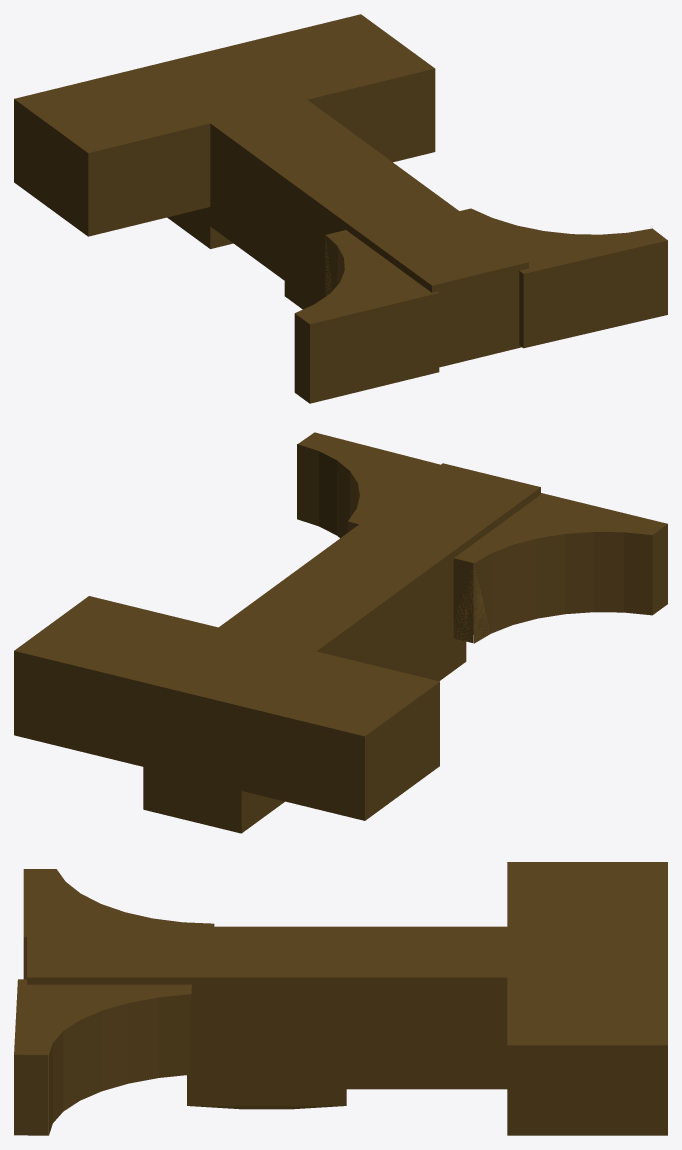
The model's file is arch.fbx.
3 views of the same model, one above another, from view 1: azimuth 30°, elevation 25°; view 2: azimuth 150°, elevation 25°; view 3: azimuth 270°, elevation 25° (orthographic). The views are drawn at different scales.
Visible parts, largest first — view 1: Circle.001; view 2: Circle.001; view 3: Circle.001.
Boxes of the visible parts, x1,y1,x2,y2 form: Circle.001: [14, 14, 667, 403]; Circle.001: [14, 432, 667, 833]; Circle.001: [14, 862, 667, 1135].
Bounding box in the file's own units: 251 × 89.15 × 370.
